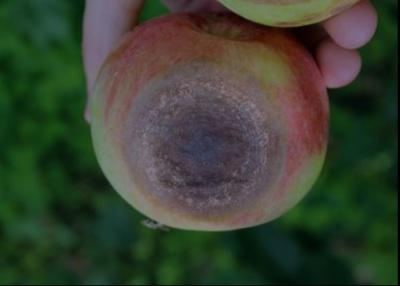rotten apple: (89, 11, 340, 237)
